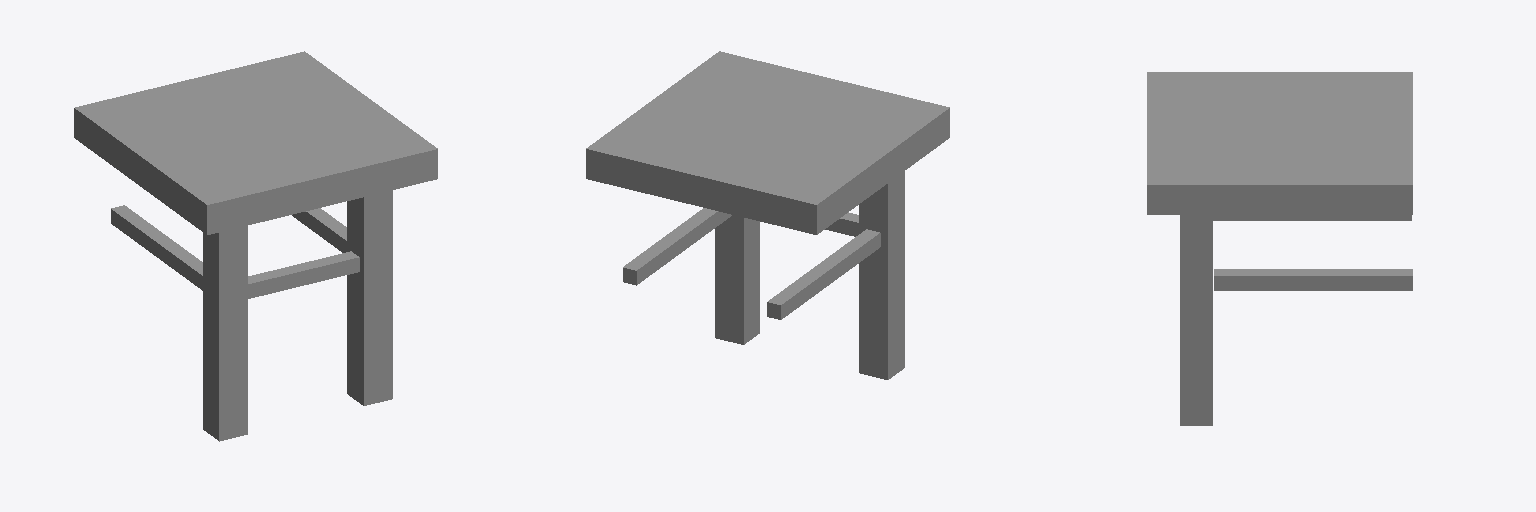
Rendered from kitchen_table2.obj.
3 renders of one model, left to right at view 1: azimuth 30°, elevation 25°; view 2: azimuth 150°, elevation 25°; view 3: azimuth 270°, elevation 25°, orthographic.
Visible parts, largest first — view 1: Cube.004; view 2: Cube.004; view 3: Cube.004.
Part boxes in pixels (x1,y1,x2,y2): Cube.004: (74, 51, 437, 441); Cube.004: (586, 51, 949, 379); Cube.004: (1147, 72, 1412, 425).
Bounding box in the file's own units: 2 × 2.12 × 2.